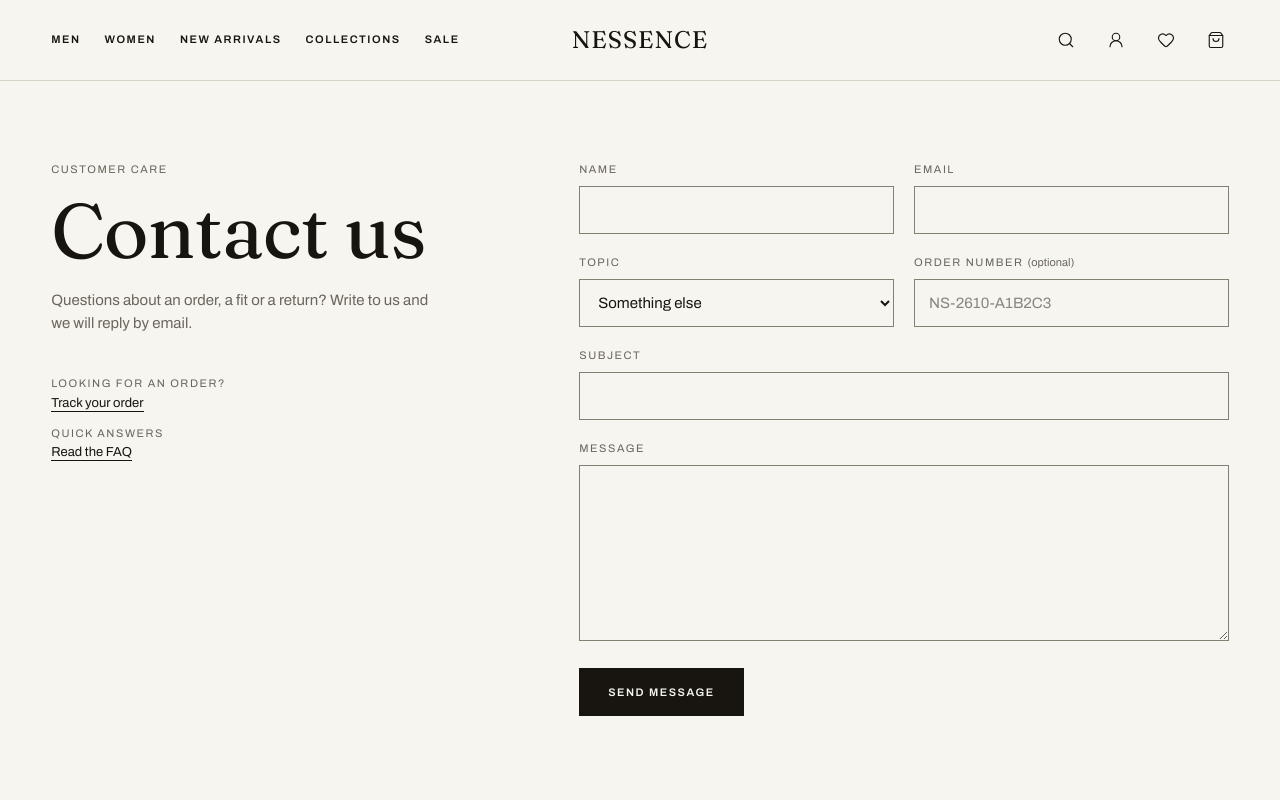
contact › shows the server validation message and does not claim success
The width and height of the screenshot is (1280, 800).
Expected: the heading "Contact us" is shown, x1=51 y1=183 x2=426 y2=278
Type "Mira Shah" into the field labelled "Name".
click(737, 210); type("Mira Shah")  # box x1=579 y1=186 x2=894 y2=234
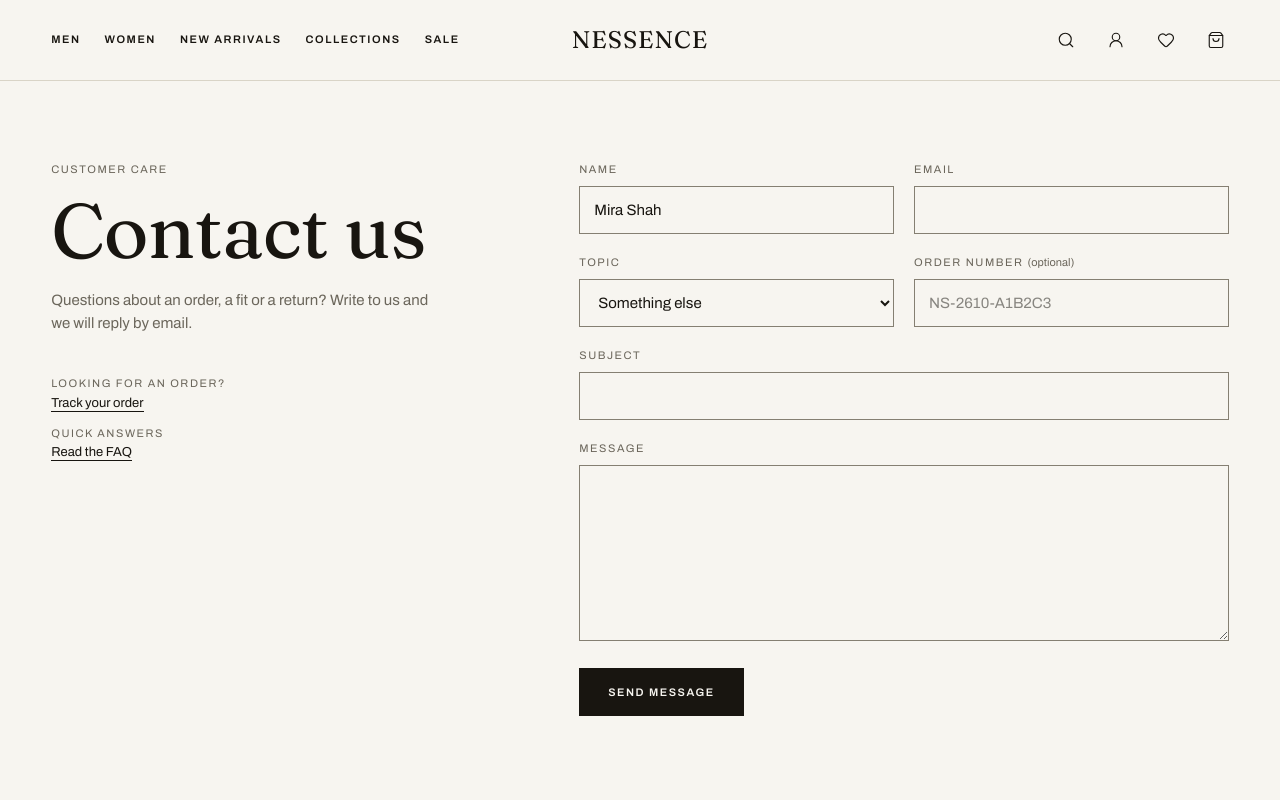
Type "mira@example.com" into the field labelled "Email".
click(1071, 210); type("mira@example.com")  # box x1=914 y1=186 x2=1229 y2=234
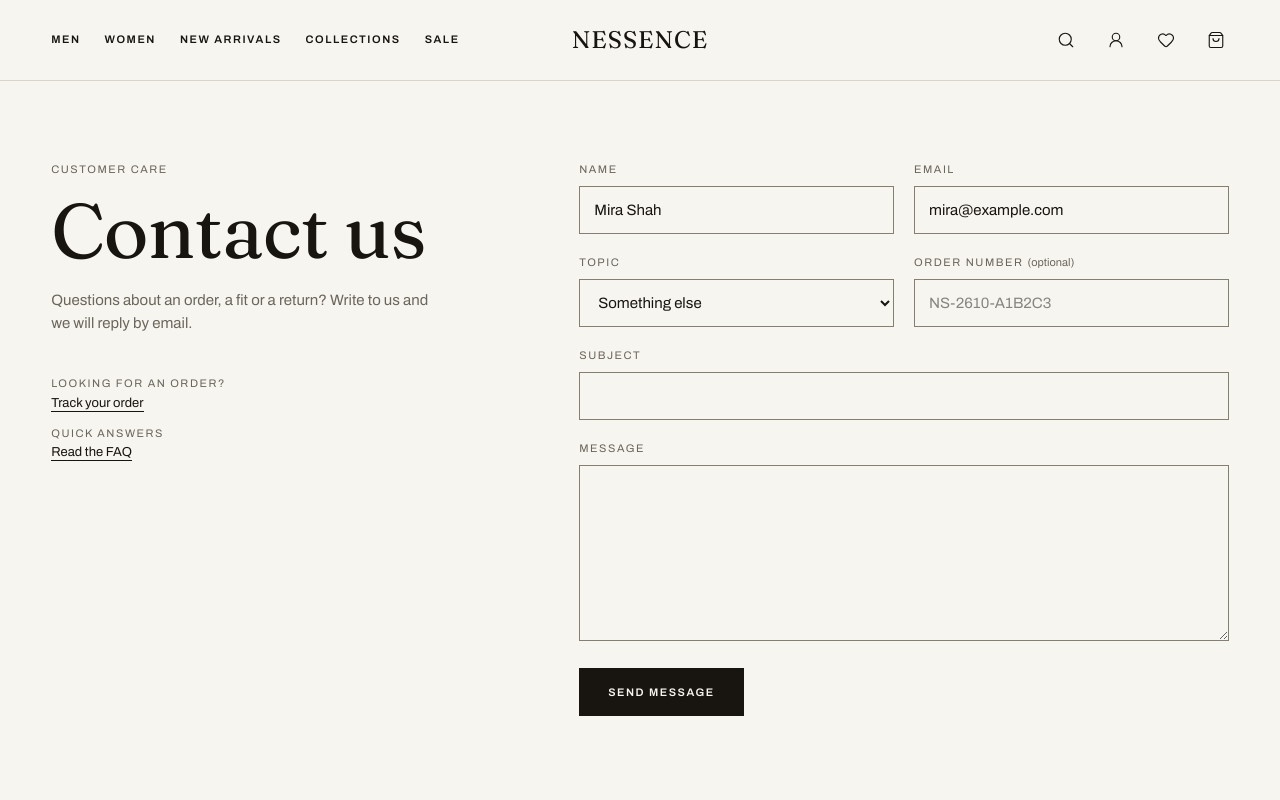
Type "Sizing help" into the field labelled "Subject".
click(904, 396); type("Sizing help")  # box x1=579 y1=372 x2=1229 y2=420
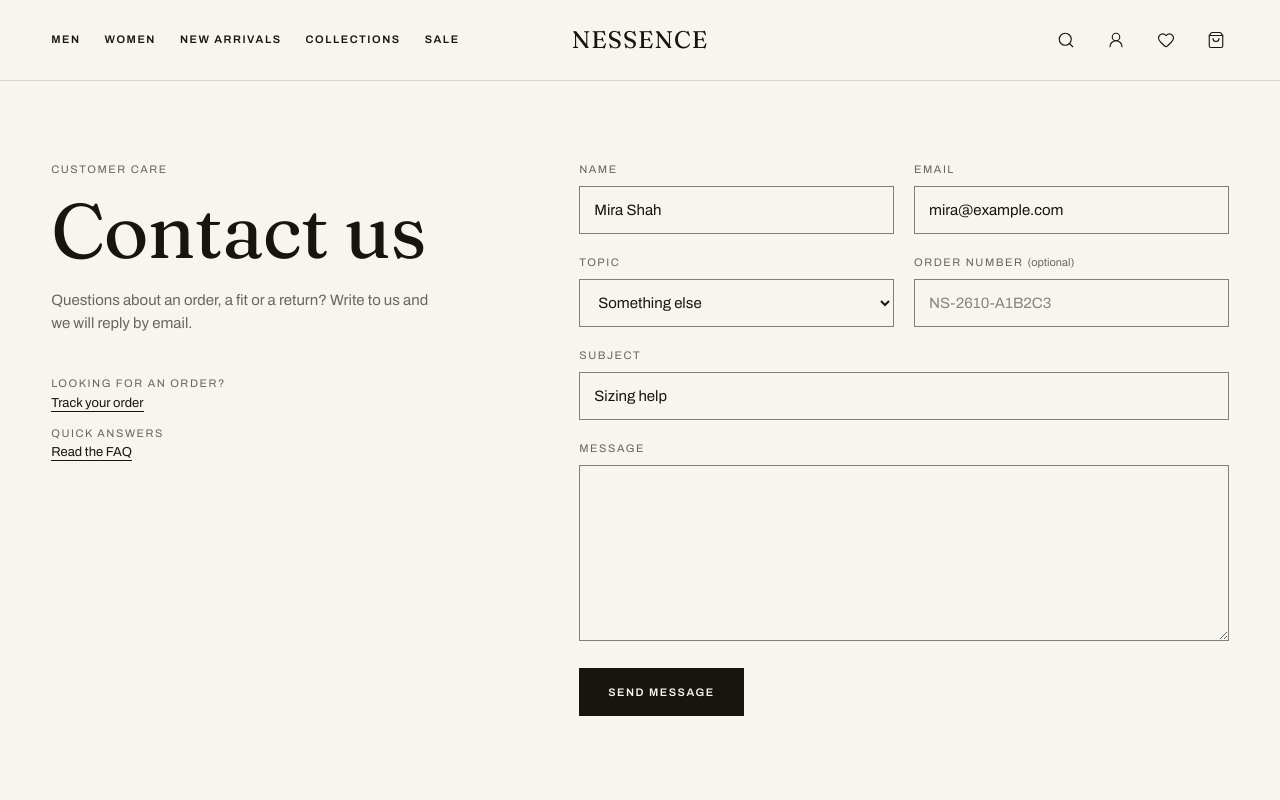
Type "Does the coat run large?" into the text box labelled "Message".
click(904, 553); type("Does the coat run large?")  # box x1=579 y1=465 x2=1229 y2=641
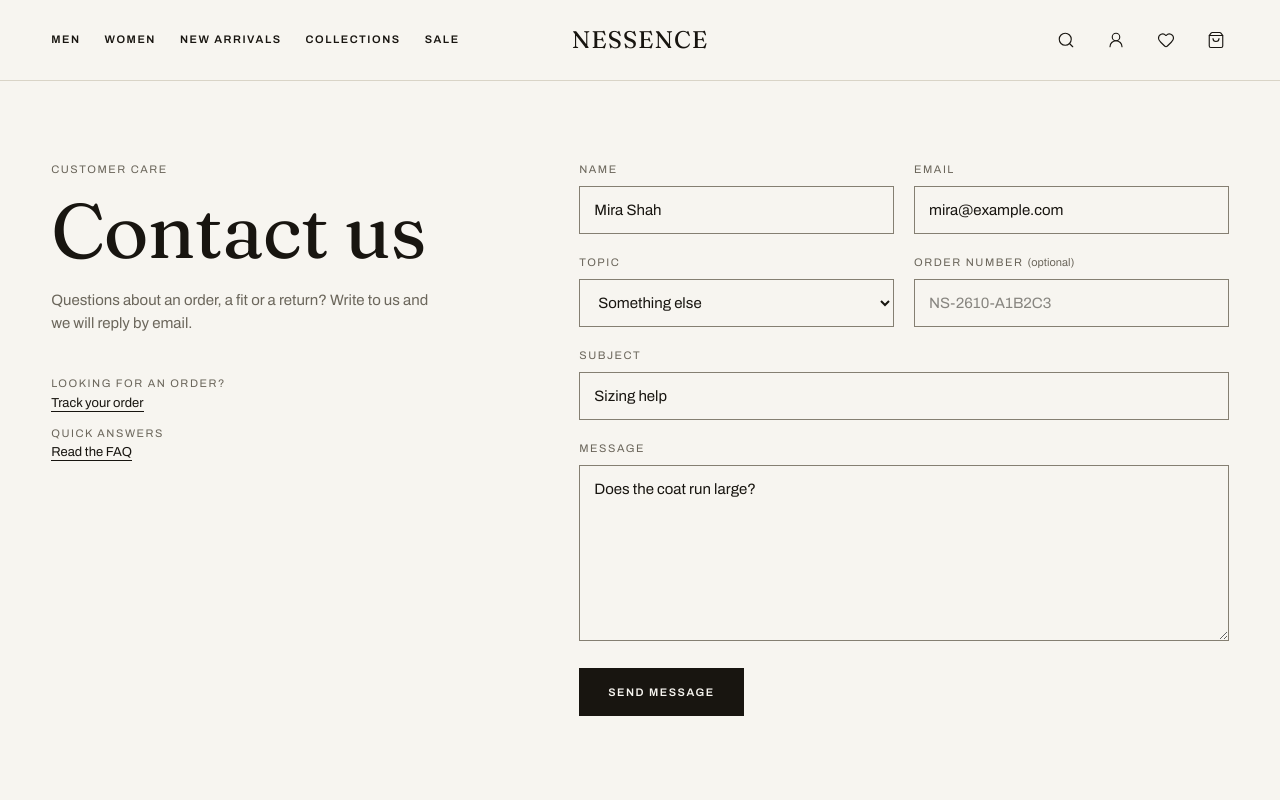
Click the button "Send message".
click(662, 692)  # box x1=579 y1=668 x2=744 y2=716
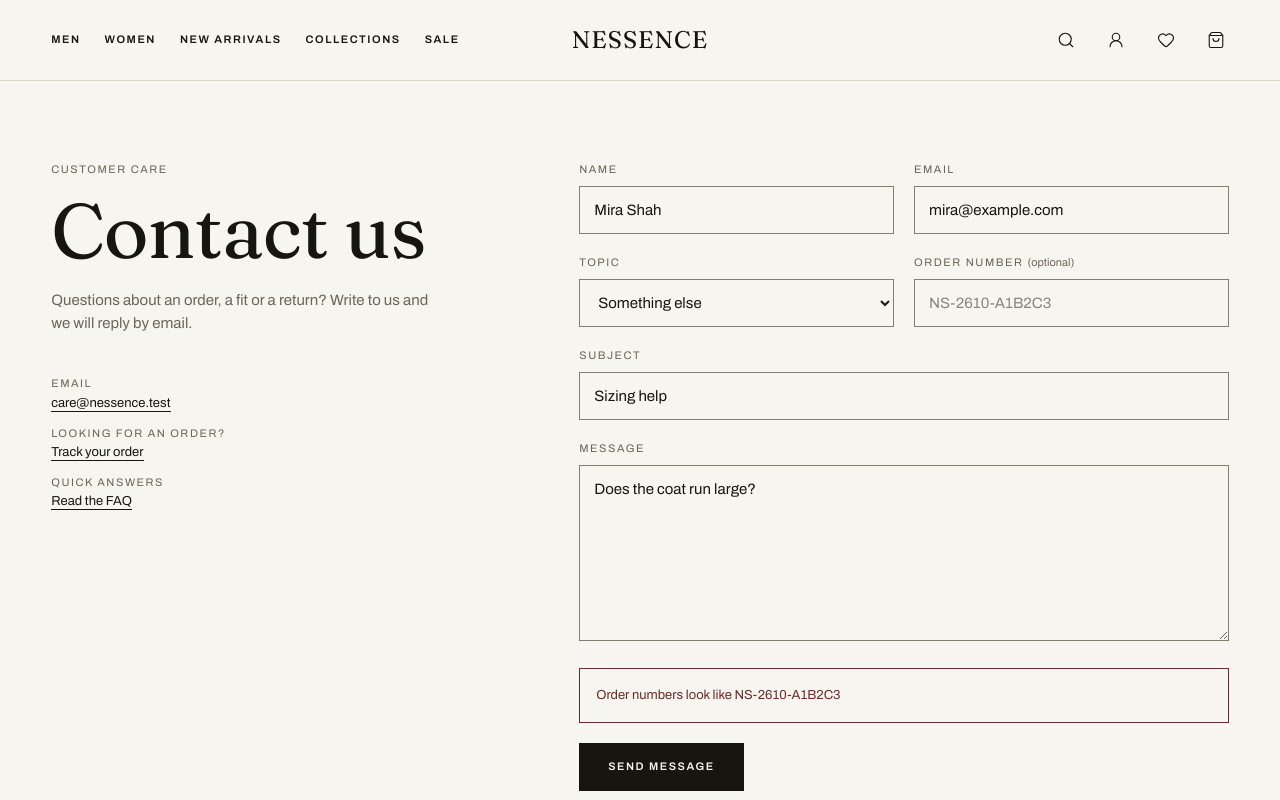
Expected: the message shows "Order numbers look like", x1=596 y1=688 x2=841 y2=702
